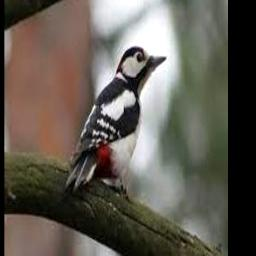Woodpecker: (66, 47, 168, 200)
